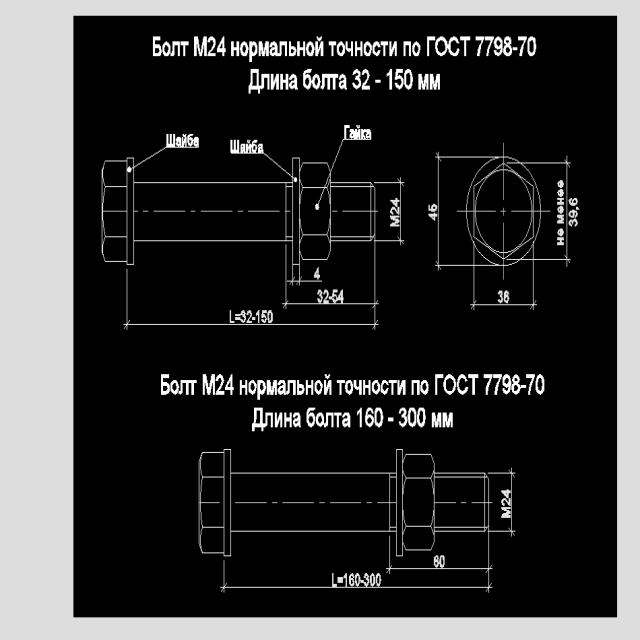marking_line: (221, 584, 495, 591), (386, 563, 496, 573), (124, 322, 379, 326), (282, 301, 380, 310), (564, 159, 572, 266), (435, 153, 442, 271), (469, 301, 540, 312), (507, 469, 518, 537), (397, 179, 404, 246), (287, 278, 324, 285)
numeric: (386, 68, 415, 92), (240, 306, 276, 324), (354, 64, 372, 94), (499, 484, 513, 519), (387, 197, 400, 227), (568, 197, 579, 228), (362, 573, 383, 588), (342, 573, 362, 588), (432, 553, 449, 568), (426, 202, 438, 221), (496, 289, 510, 305), (332, 288, 345, 305), (315, 288, 328, 303), (312, 266, 321, 279)
